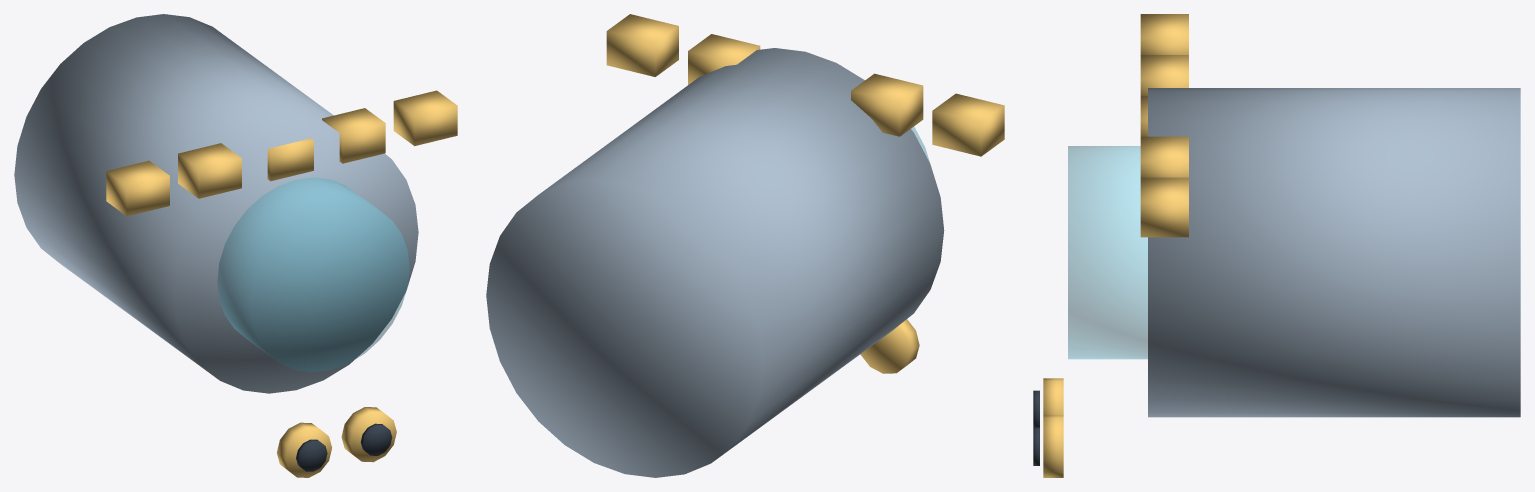
File: 90_L89_EquipmentMaintenanceInspectionCamera.glb
3 renders of one model, left to right at view 1: azimuth 30°, elevation 25°; view 2: azimuth 150°, elevation 25°; view 3: azimuth 270°, elevation 25°, orthographic. The views are drawn at different scales.
Visible parts, largest first — view 1: L87_EquipmentMaintenanceInspe_Part_0000, L87_EquipmentMaintenanceInspe_Part_0001, L87_EquipmentMaintenanceInspe_Part_0002, L87_EquipmentMaintenanceInspe_Part_0003, L87_EquipmentMaintenanceInspe_Part_0005, L87_EquipmentMaintenanceInspe_Part_0004, L87_EquipmentMaintenanceInspe_Part_0006; view 2: L87_EquipmentMaintenanceInspe_Part_0000, L87_EquipmentMaintenanceInspe_Part_0002, L87_EquipmentMaintenanceInspe_Part_0003; view 3: L87_EquipmentMaintenanceInspe_Part_0000, L87_EquipmentMaintenanceInspe_Part_0001, L87_EquipmentMaintenanceInspe_Part_0002, L87_EquipmentMaintenanceInspe_Part_0005, L87_EquipmentMaintenanceInspe_Part_0003.
Boxes of the visible parts, x1,y1,x2,y2 form: L87_EquipmentMaintenanceInspe_Part_0000: [14, 14, 418, 393]; L87_EquipmentMaintenanceInspe_Part_0001: [217, 177, 409, 372]; L87_EquipmentMaintenanceInspe_Part_0002: [106, 90, 457, 216]; L87_EquipmentMaintenanceInspe_Part_0003: [277, 422, 331, 477]; L87_EquipmentMaintenanceInspe_Part_0005: [341, 407, 396, 462]; L87_EquipmentMaintenanceInspe_Part_0004: [296, 439, 327, 471]; L87_EquipmentMaintenanceInspe_Part_0006: [360, 423, 392, 455]; L87_EquipmentMaintenanceInspe_Part_0000: [486, 48, 944, 477]; L87_EquipmentMaintenanceInspe_Part_0002: [606, 14, 1004, 156]; L87_EquipmentMaintenanceInspe_Part_0003: [860, 319, 919, 373]; L87_EquipmentMaintenanceInspe_Part_0000: [1148, 88, 1520, 417]; L87_EquipmentMaintenanceInspe_Part_0001: [1068, 146, 1147, 359]; L87_EquipmentMaintenanceInspe_Part_0002: [1140, 14, 1188, 237]; L87_EquipmentMaintenanceInspe_Part_0005: [1043, 415, 1063, 477]; L87_EquipmentMaintenanceInspe_Part_0003: [1043, 378, 1063, 415].
Size of the model in its own units: 0.92 by 0.805 by 1.01.
